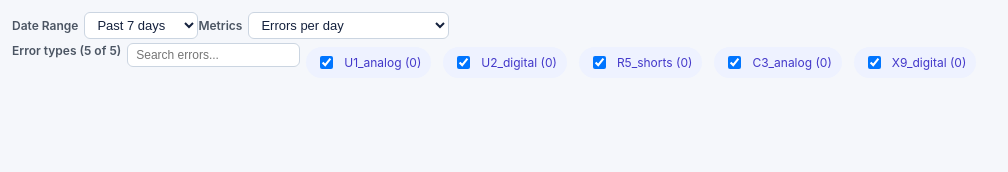
Test: ErrorSearchList (U5) › matches case-insensitively
Type "DIGITAL" into the field with placeholder "Search errors..." at [214, 55], box [127,43,300,67]
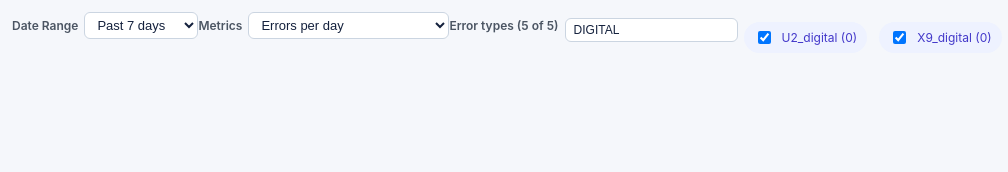
Check: the text "U2_digital (0)" is shown, box [782,30,857,45]
Check: the text "U1_analog" is gone
